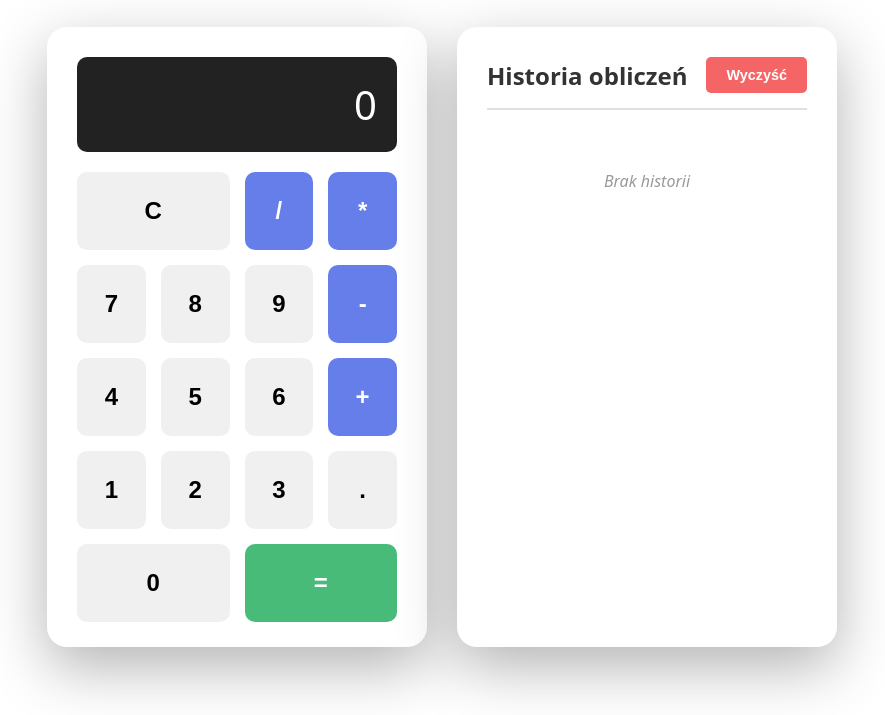
Test case: Calculator App › displays number when clicked
This screenshot has width=885, height=715.
What coordinates should you click on to do the following:
click the button "5"
I would click on:
 (195, 397)
Its box is [161, 358, 230, 436].
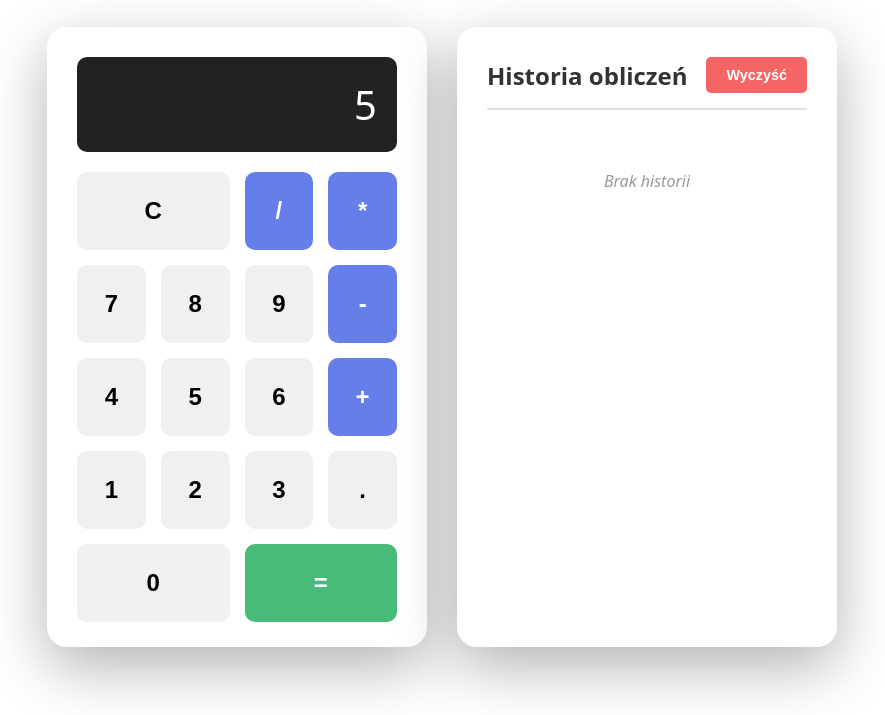
Expected: the text with class "display" reads "5", [354, 77, 377, 132]
